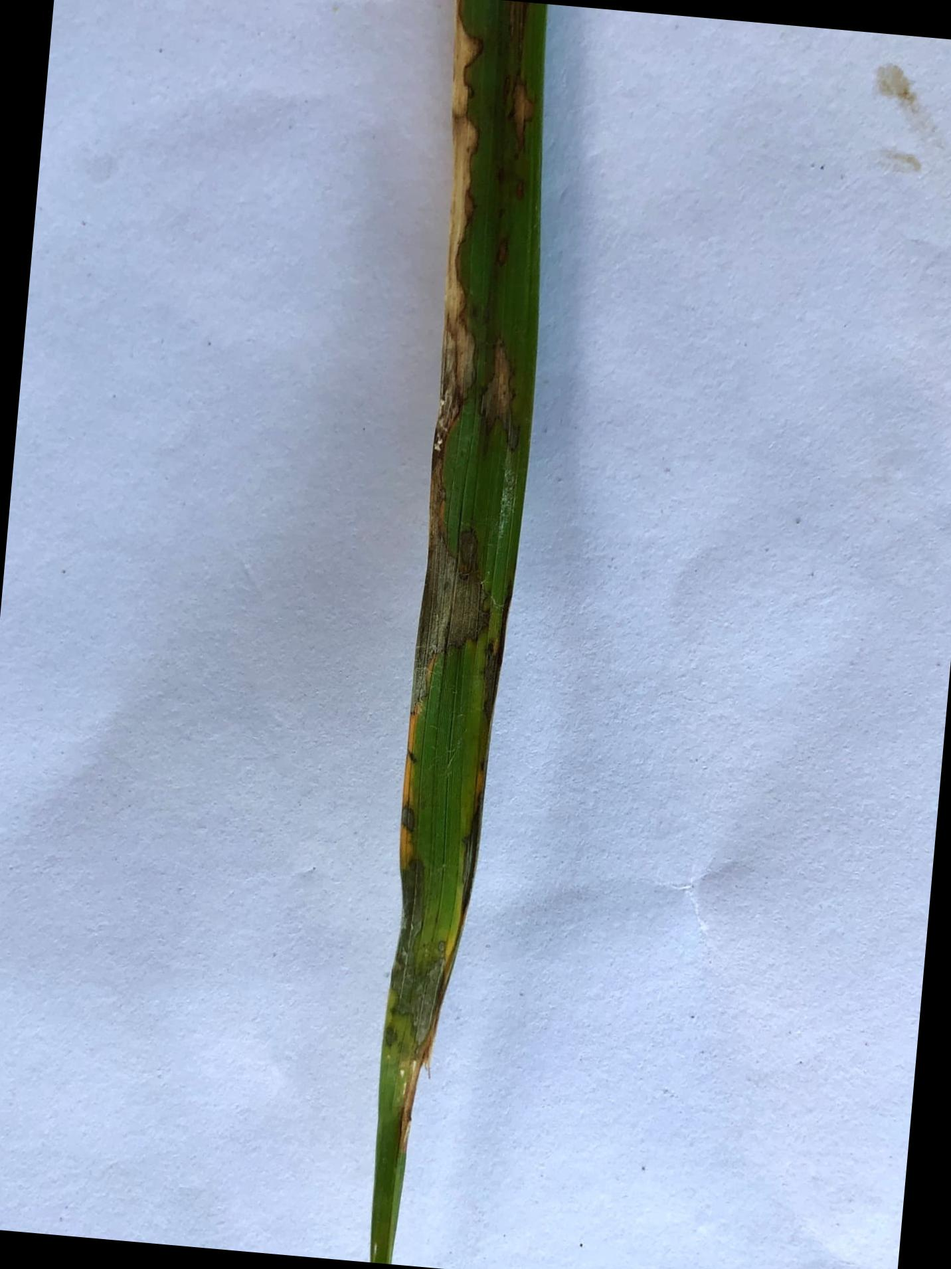Leaf Blight: (410, 0, 488, 717), (397, 761, 486, 1154), (477, 330, 520, 451), (479, 579, 512, 727), (509, 68, 534, 146), (511, 2, 528, 61), (401, 799, 414, 835)
